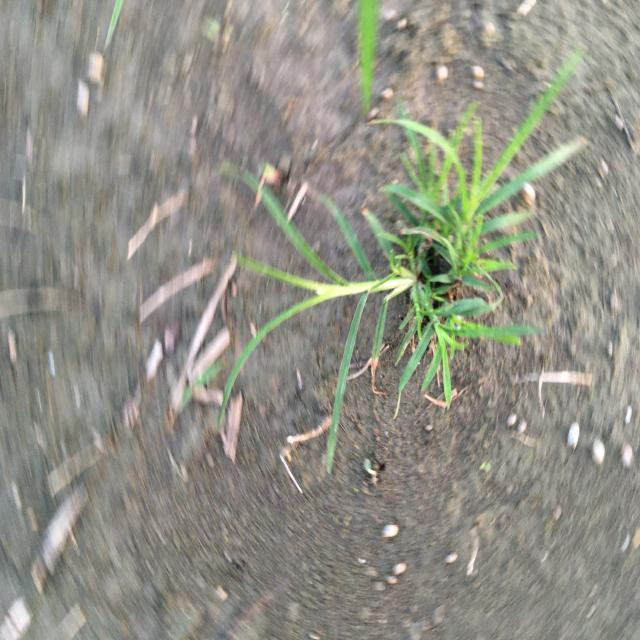Goosegrass: (216, 49, 609, 478)
